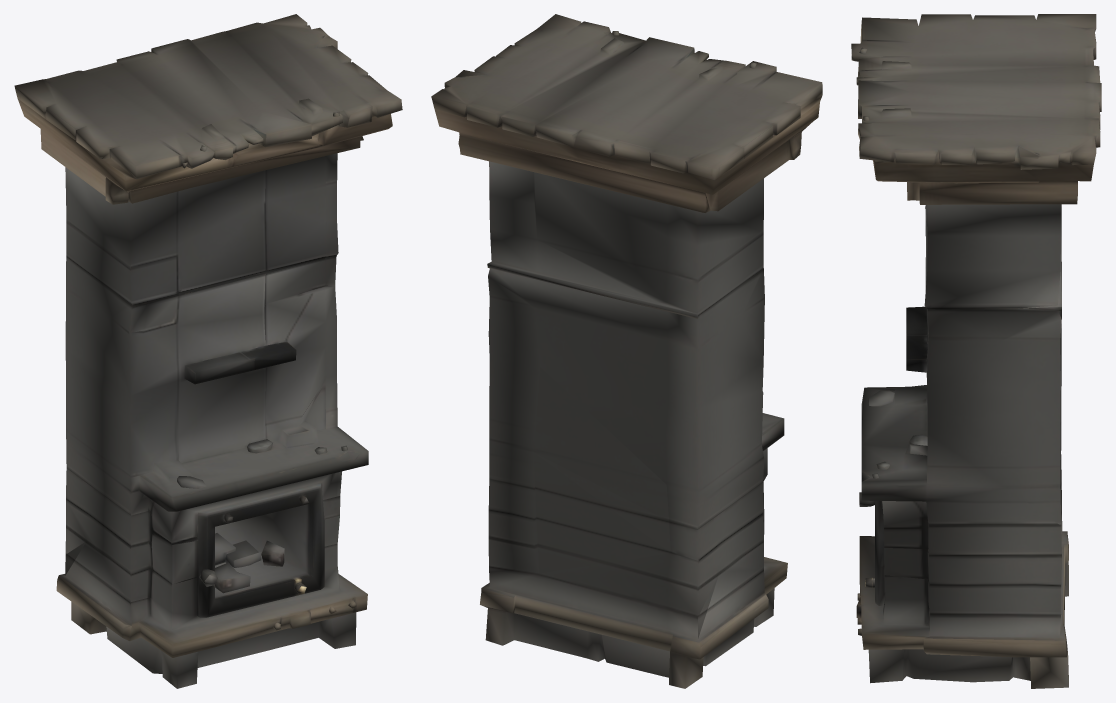
The model's file is tiled_stove.glb.
The picture shows the model from 3 angles, left to right: view 1: azimuth 30°, elevation 25°; view 2: azimuth 150°, elevation 25°; view 3: azimuth 270°, elevation 25°; orthographic projection. The views are drawn at different scales.
Parts seen in each view (by area): view 1: tiled_stove_LOD0; view 2: tiled_stove_LOD0; view 3: tiled_stove_LOD0.
Part boxes in pixels (left/top/right/bottom): tiled_stove_LOD0: left=14, top=14, right=402, bottom=688; tiled_stove_LOD0: left=431, top=14, right=822, bottom=688; tiled_stove_LOD0: left=851, top=14, right=1101, bottom=688.
Size of what is drawn, in the model's own units: 1.06 by 1.9 by 0.7734.
Materials: 1 (1 with a texture image).
